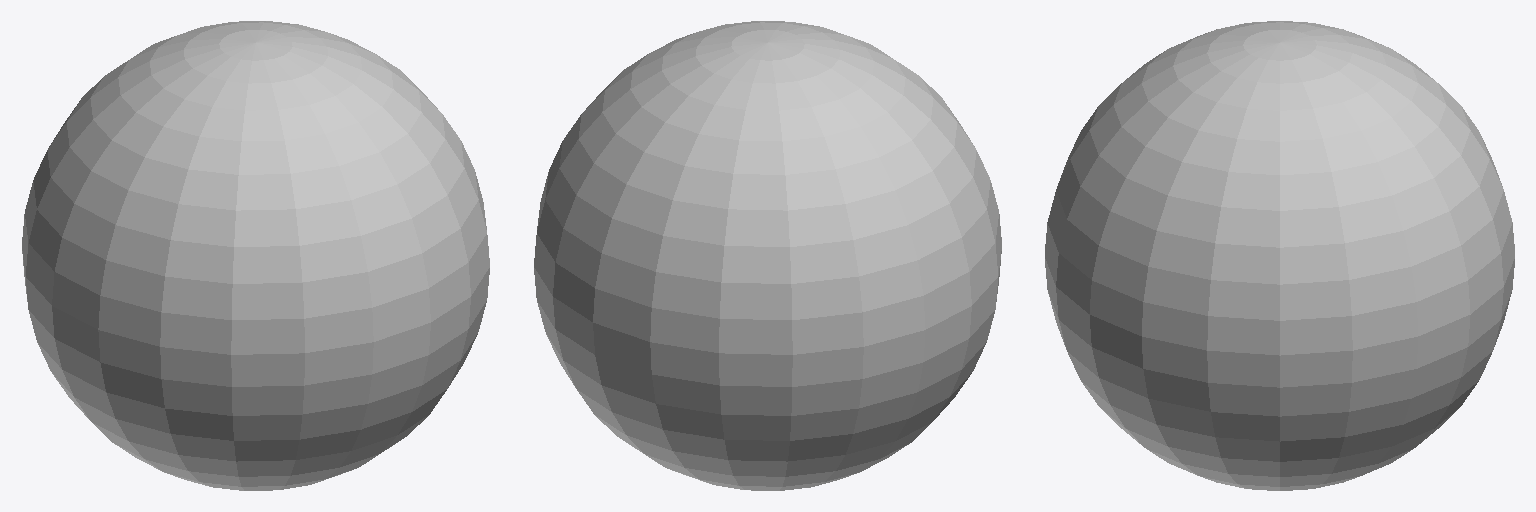
The model's file is ball.obj.
The picture shows the model from 3 angles: view 1: azimuth 30°, elevation 25°; view 2: azimuth 150°, elevation 25°; view 3: azimuth 270°, elevation 25°; orthographic projection.
Parts seen in each view (by area): view 1: pSphere1; view 2: pSphere1; view 3: pSphere1.
Boxes of the visible parts, box(x1,y1,x2,y2) form: pSphere1: box(22, 21, 489, 490); pSphere1: box(534, 21, 1001, 490); pSphere1: box(1045, 21, 1514, 490).
Bounding box in the file's own units: 0.7835 × 0.7835 × 0.7835.